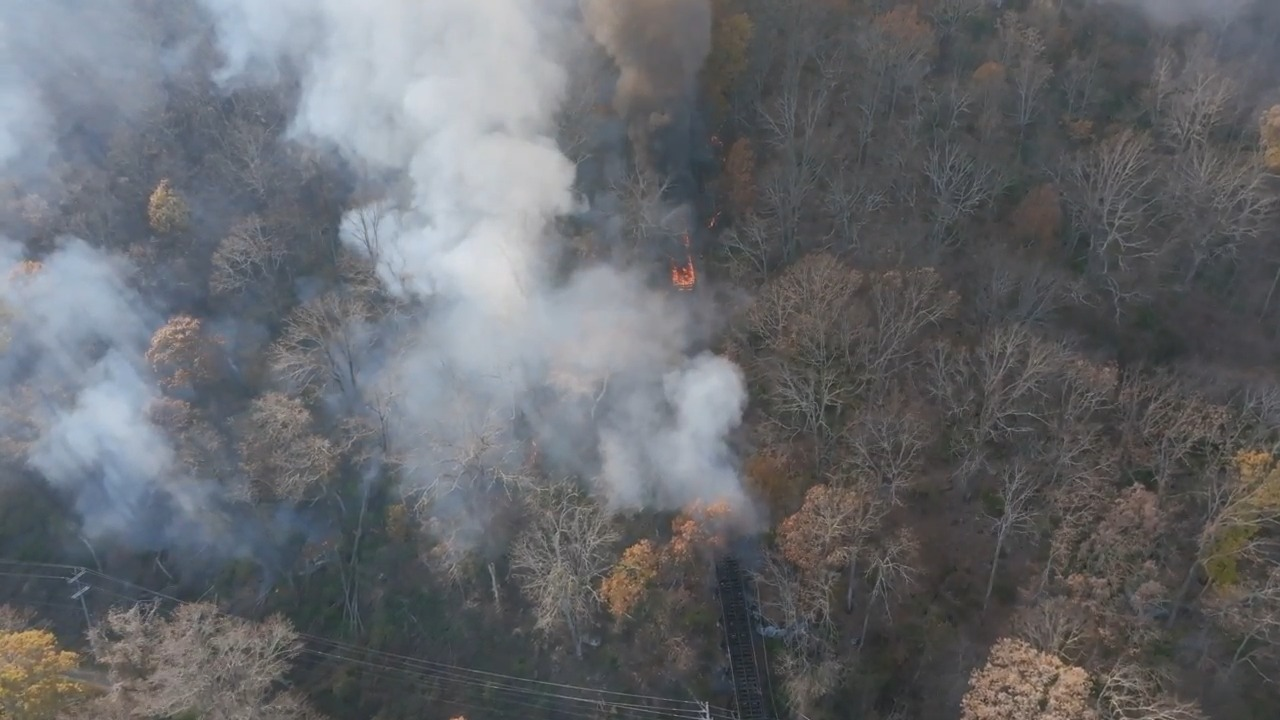fire: (671, 233, 696, 290), (671, 257, 696, 290), (706, 210, 721, 228), (710, 134, 722, 148)
smoke: (204, 0, 746, 535), (0, 238, 230, 550), (0, 0, 191, 182), (581, 0, 711, 194)
